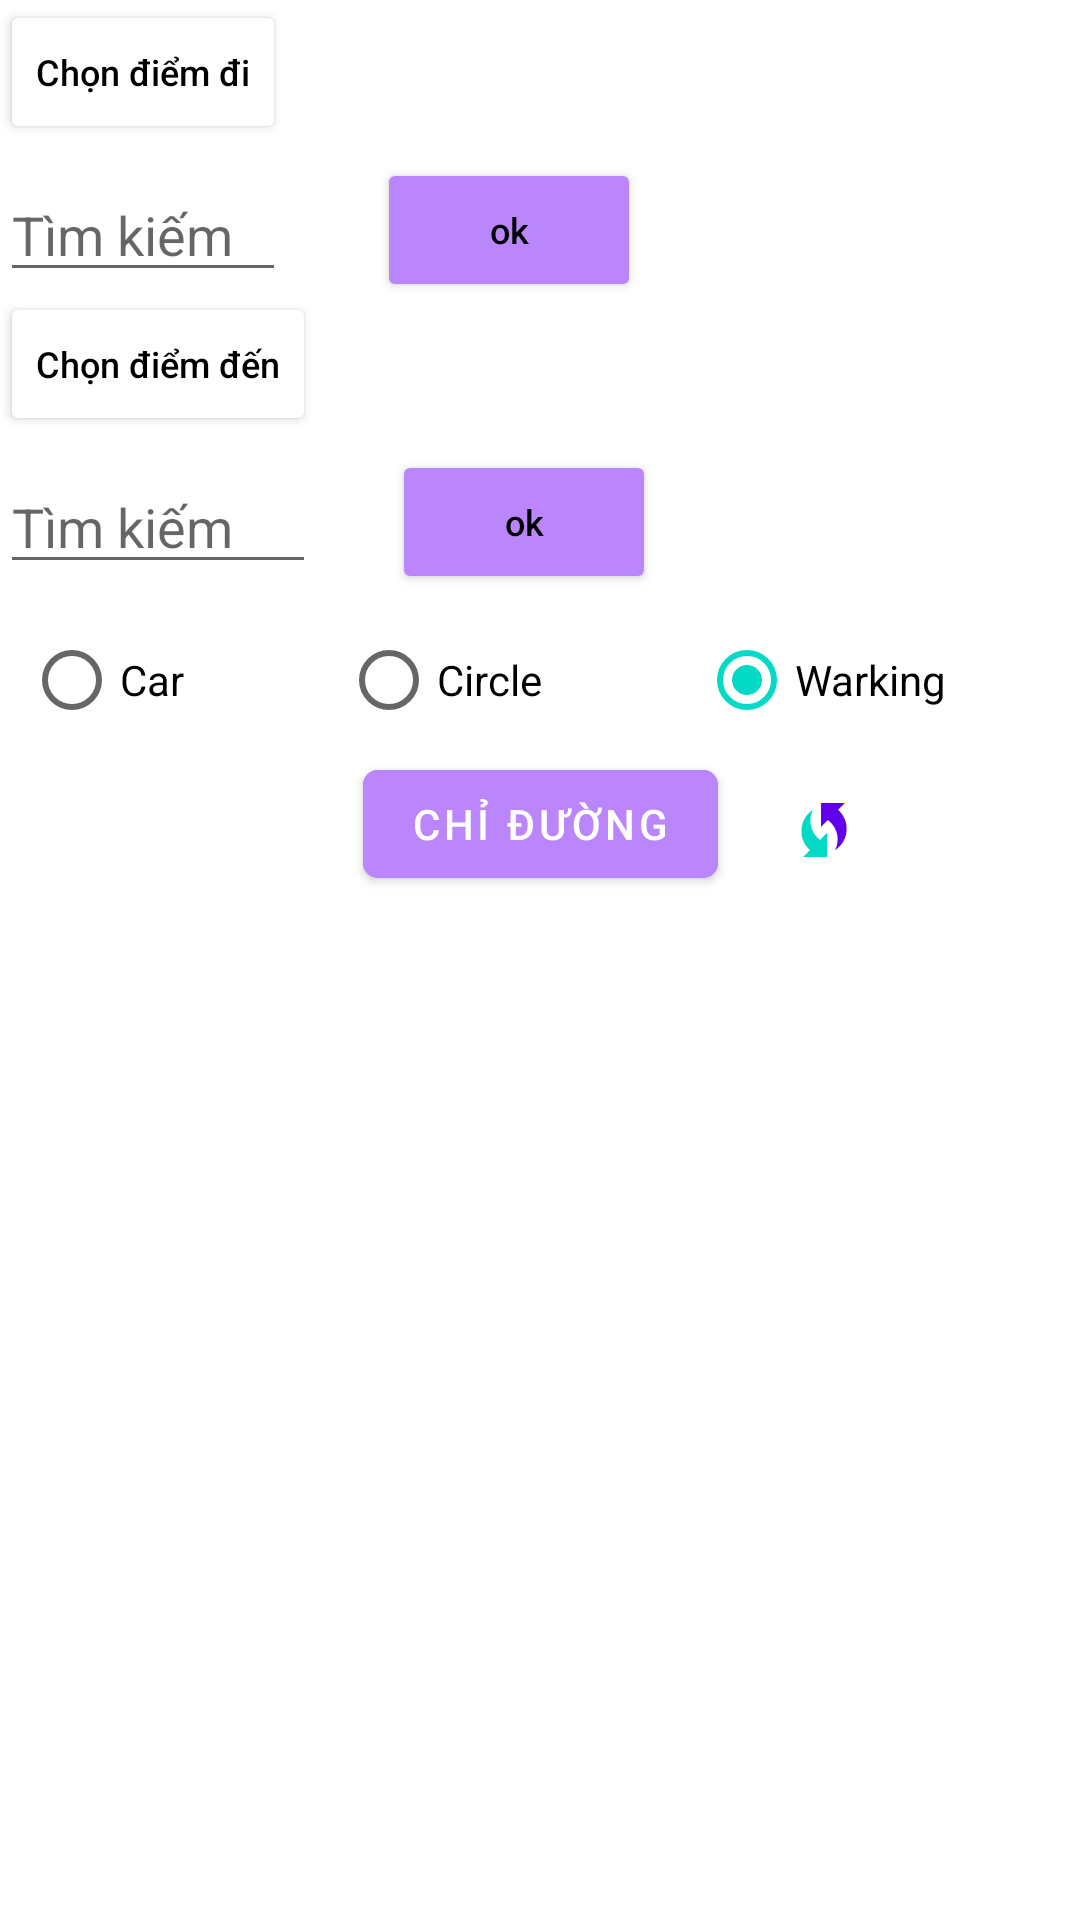

Screen size 1080 x 1920. Icon name, then its box in pixels as {"x1": x1, "y1": y1, "x2": x2, "y2": y2}:
rotate: {"x1": 801, "y1": 803, "x2": 847, "y2": 857}
